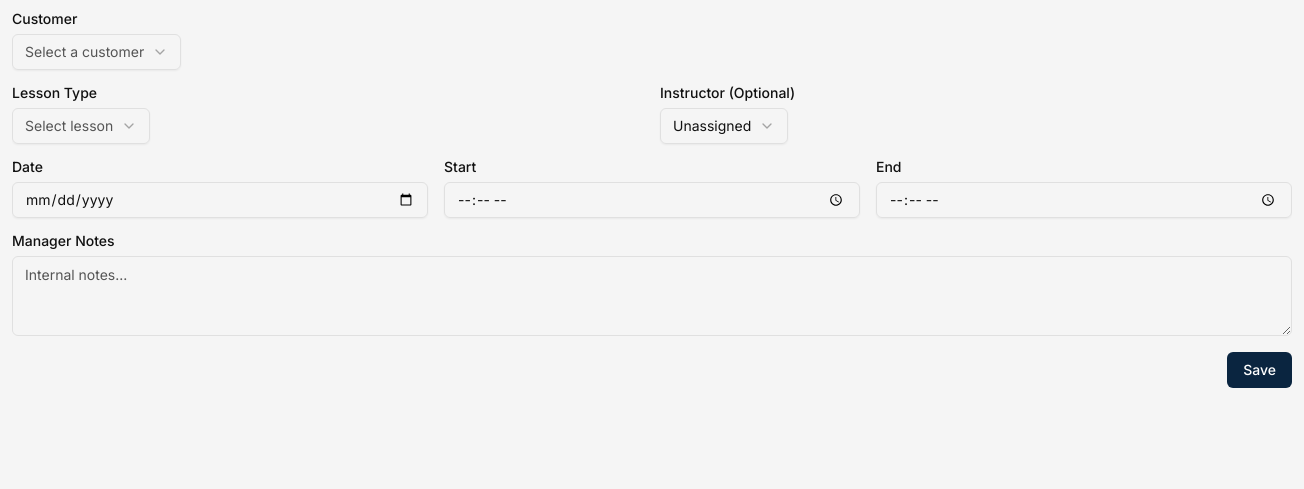
Test case: ManagerBookingForm › validates required fields
The image size is (1304, 489).
What coordinates should you click on to do the following:
click the button "Save"
I would click on:
 (1260, 370)
Its box is x1=1227 y1=352 x2=1292 y2=388.
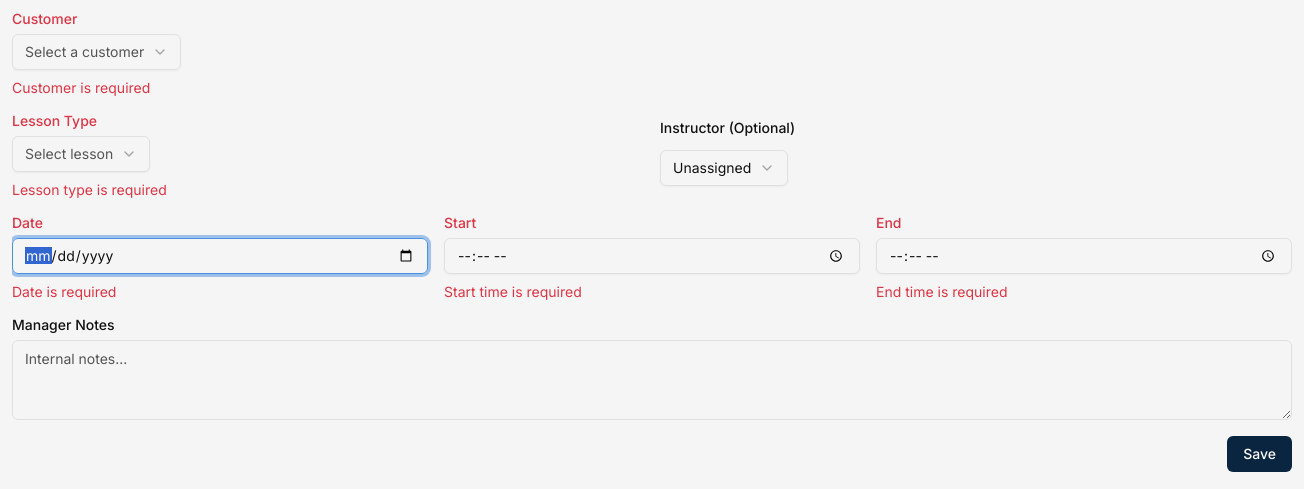
Expected: the text "Customer is required" is shown, x1=12 y1=79 x2=150 y2=96
Expected: the text "Lesson type is required" is shown, x1=12 y1=181 x2=167 y2=198
Expected: the text "Date is required" is shown, x1=12 y1=283 x2=116 y2=300
